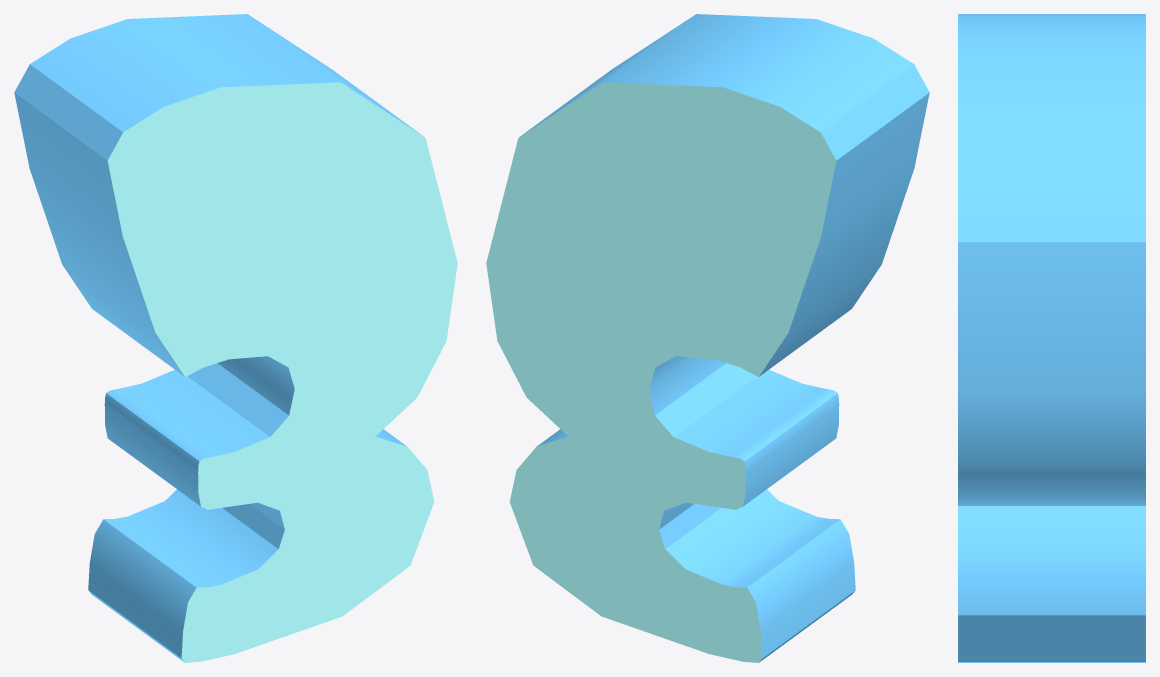
The picture shows the model from 3 angles, left to right: view 1: azimuth 30°, elevation 25°; view 2: azimuth 150°, elevation 25°; view 3: azimuth 270°, elevation 25°; orthographic projection.
Parts seen in each view (by area): view 1: 3; view 2: 3; view 3: 3.
Boxes of the visible parts, left/top/right/bottom form: 3: left=14, top=14, right=457, bottom=662; 3: left=486, top=14, right=929, bottom=662; 3: left=958, top=14, right=1145, bottom=662.
Size of what is drawn, in the model's own units: 0.3899 by 0.6067 by 0.18.
